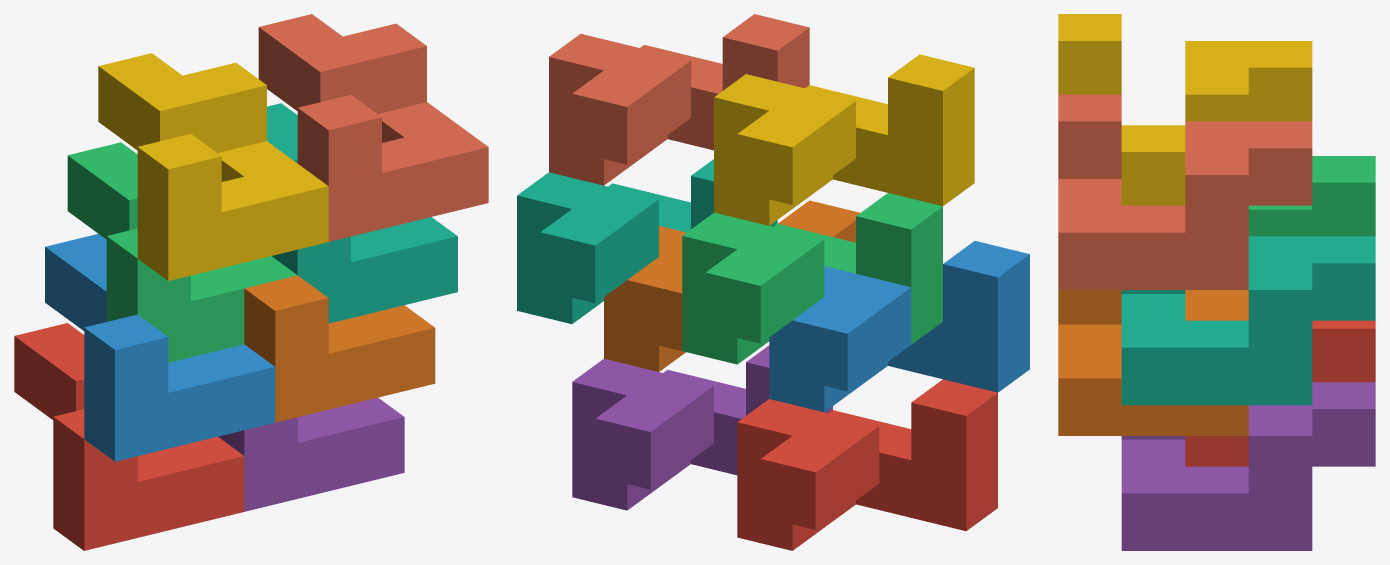
File: tiling.obj
3 views of the same model, side by side, from view 1: azimuth 30°, elevation 25°; view 2: azimuth 150°, elevation 25°; view 3: azimuth 270°, elevation 25° (orthographic). The views are drawn at different scales.
Visible parts, largest first — view 1: copy_1_domain_4, copy_1_domain_8, copy_1_domain_2, copy_1_domain_1, copy_1_domain_6, copy_1_domain_3, copy_1_domain_7, copy_1_domain_5; view 2: copy_1_domain_1, copy_1_domain_4, copy_1_domain_2, copy_1_domain_3, copy_1_domain_8, copy_1_domain_5, copy_1_domain_7, copy_1_domain_6; view 3: copy_1_domain_8, copy_1_domain_7, copy_1_domain_5, copy_1_domain_4, copy_1_domain_6, copy_1_domain_3, copy_1_domain_1.
Part boxes in pixels (box(x1,y1,x2,y2)): copy_1_domain_4: box(98, 53, 328, 280); copy_1_domain_8: box(258, 14, 488, 241); copy_1_domain_2: box(45, 233, 275, 461); copy_1_domain_1: box(14, 323, 244, 550); copy_1_domain_6: box(244, 275, 435, 422); copy_1_domain_3: box(67, 142, 297, 362); copy_1_domain_7: box(267, 103, 457, 323); copy_1_domain_5: box(218, 397, 404, 511); copy_1_domain_1: box(737, 379, 997, 550); copy_1_domain_4: box(714, 54, 974, 225); copy_1_domain_2: box(769, 241, 1029, 412); copy_1_domain_3: box(682, 193, 942, 364); copy_1_domain_8: box(549, 14, 809, 185); copy_1_domain_5: box(572, 345, 832, 510); copy_1_domain_7: box(517, 159, 777, 323); copy_1_domain_6: box(604, 200, 860, 371); copy_1_domain_8: box(1058, 94, 1312, 289); copy_1_domain_7: box(1121, 236, 1375, 405); copy_1_domain_5: box(1121, 382, 1375, 550); copy_1_domain_4: box(1058, 14, 1312, 205); copy_1_domain_6: box(1058, 290, 1248, 435); copy_1_domain_3: box(1248, 156, 1375, 236); copy_1_domain_1: box(1185, 320, 1375, 466).
Bounding box in the file's own units: 7 × 7 × 5.
